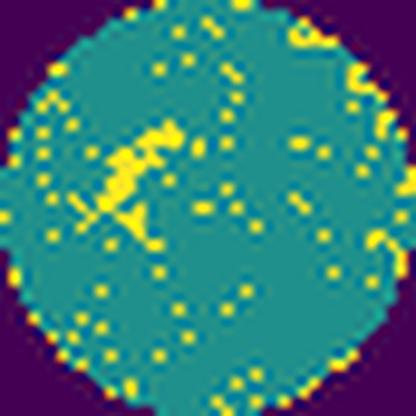Edge-Loc: (97, 116, 187, 251)
